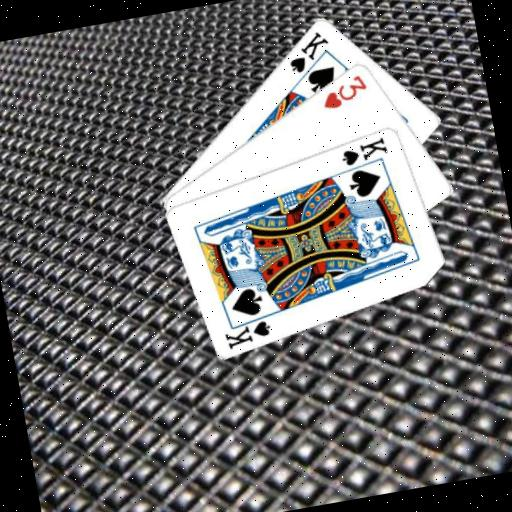3H: (316, 70, 372, 112)
KS: (280, 26, 334, 76), (219, 309, 277, 350), (335, 133, 390, 168)
